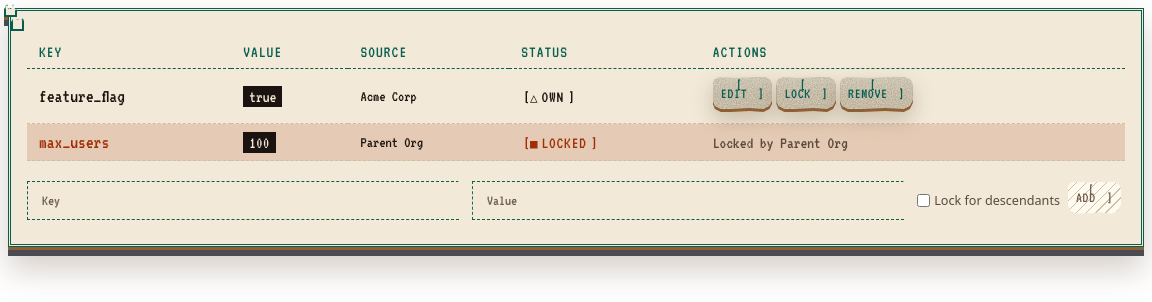
it: ConfigEditor inline edit › cancels the inline edit on Escape without saving
expect the text "feature_flag" is shown: met, box [27,68,231,124]
Click the button "Edit" at (743, 93), box [713,77,772,109]
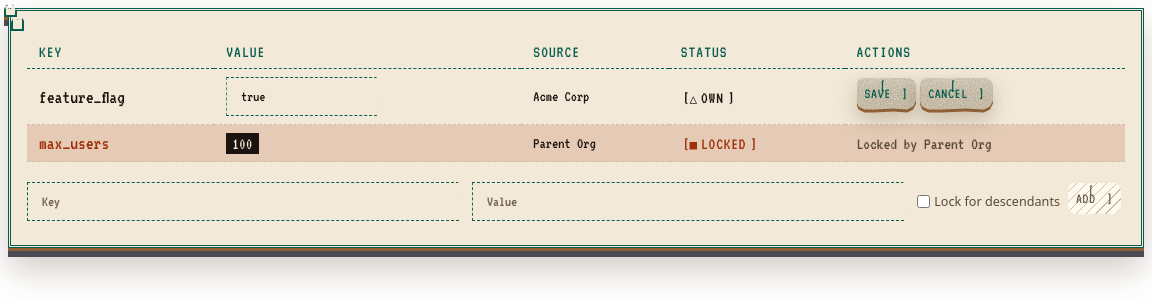
Replace the text in the field named "Edit feature_flag" with "false" at (304, 96), box [226,77,382,116]
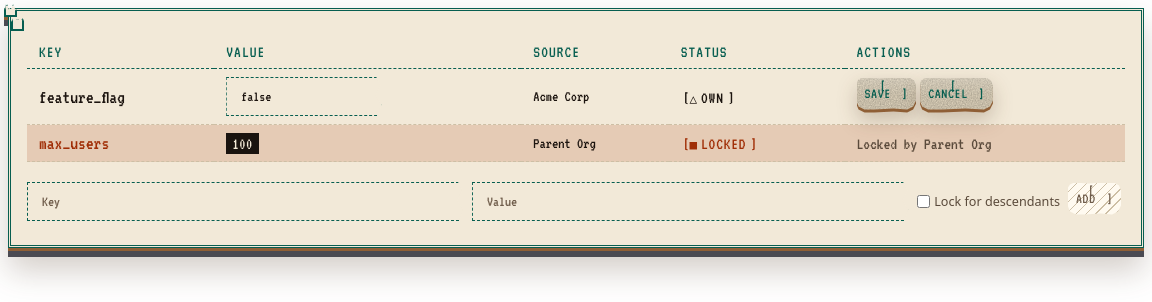
Press Escape in the field named "Edit feature_flag", box [226,77,382,116]
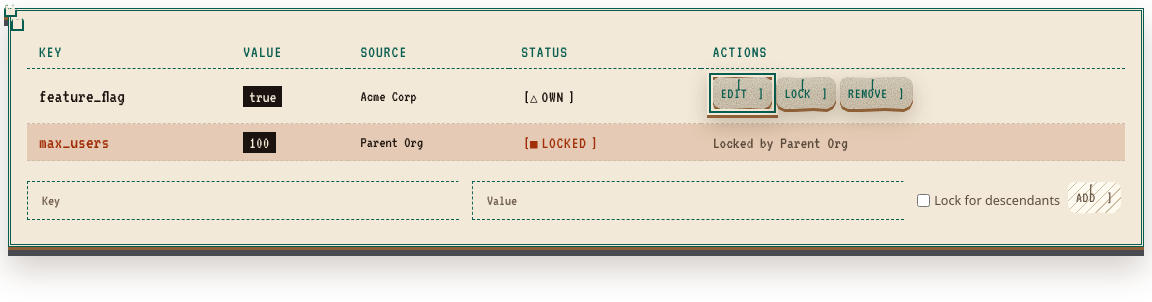
expect the text "true" is shown: met, box [243,86,282,107]
